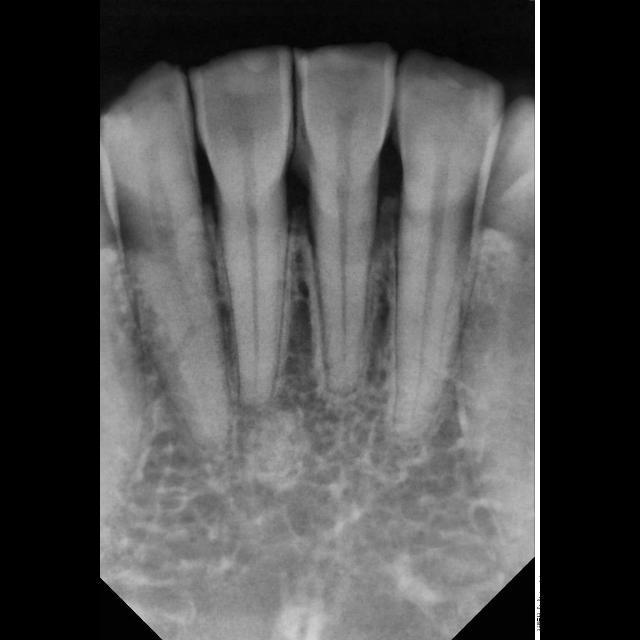tooth: (103, 67, 227, 443), (389, 53, 501, 434), (192, 50, 293, 403), (296, 48, 394, 391)
